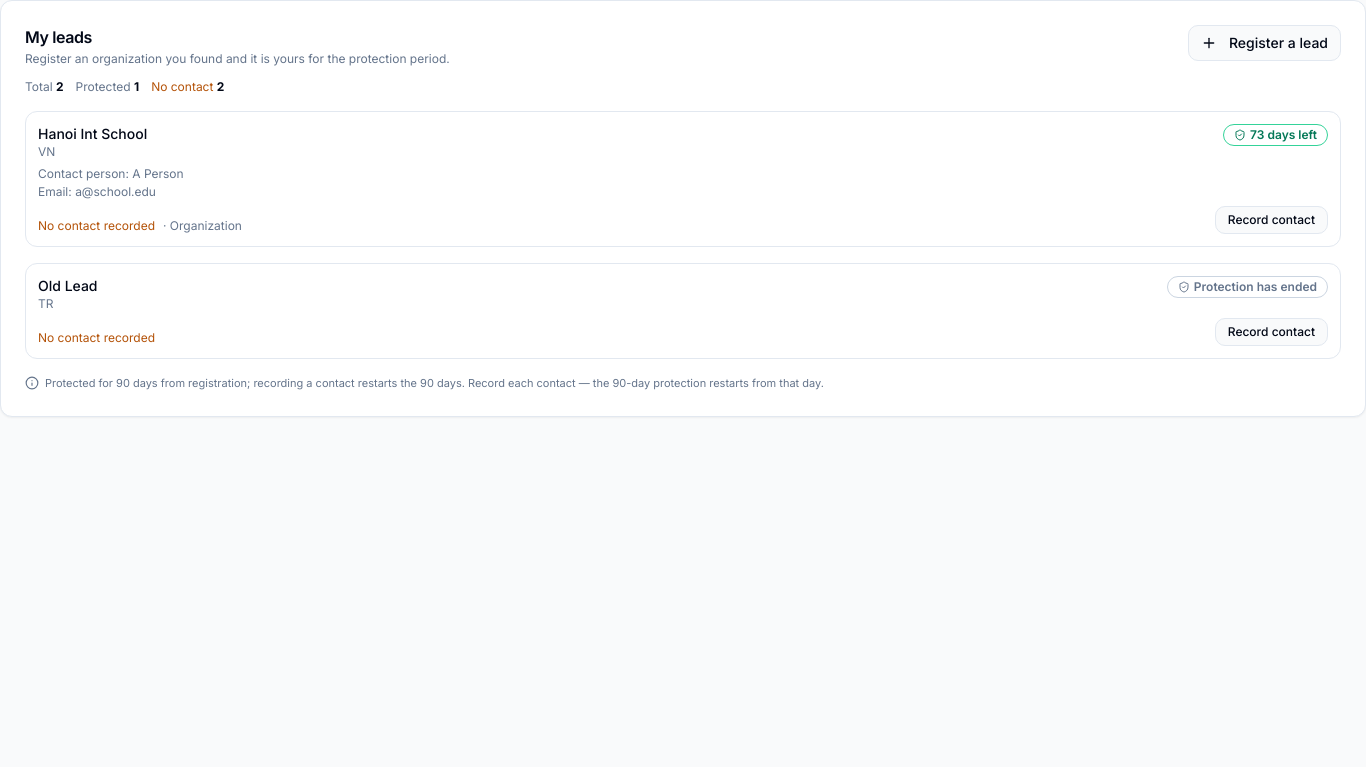
Scenario: 내 리드 화면 › 등록 폼이 열린다
Expected: the text "Hanoi Int School" is shown, x1=38 y1=124 x2=147 y2=144
Click the button "Register a lead": x=1264, y=43 x1=1188 y1=25 x2=1341 y2=61
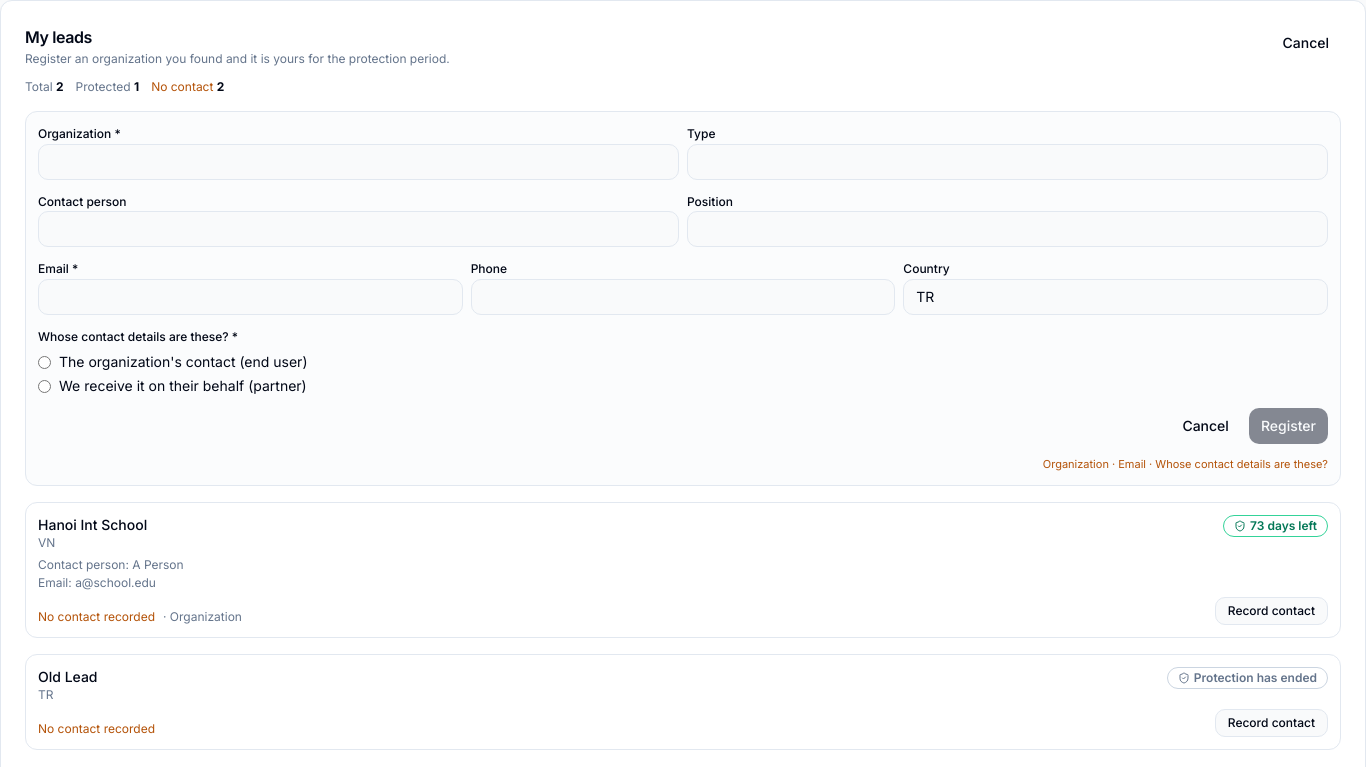
Now the text "Whose contact details are these? *" is shown, box x1=38 y1=328 x2=238 y2=344
